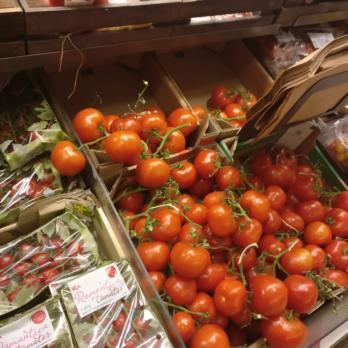Tomato: (182, 192, 348, 342), (72, 109, 218, 164), (52, 139, 89, 175)
